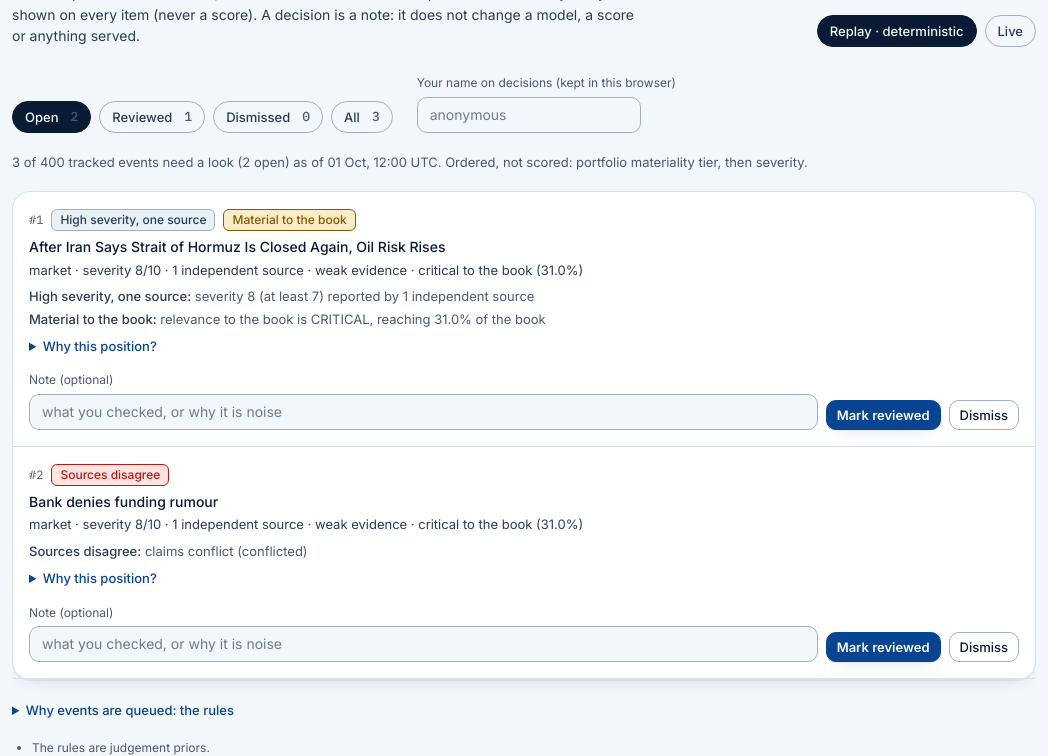
Review queue page › shows the status counts on the tabs and the rules behind the queue
The width and height of the screenshot is (1048, 756).
(page scrolled)
Check: the button "Reviewed 1" is shown, box [99, 101, 205, 133]
Step 1. Click the heading "Why events are queued: the rules" → coordinates (123, 710), box [12, 700, 234, 720]
(page scrolled)
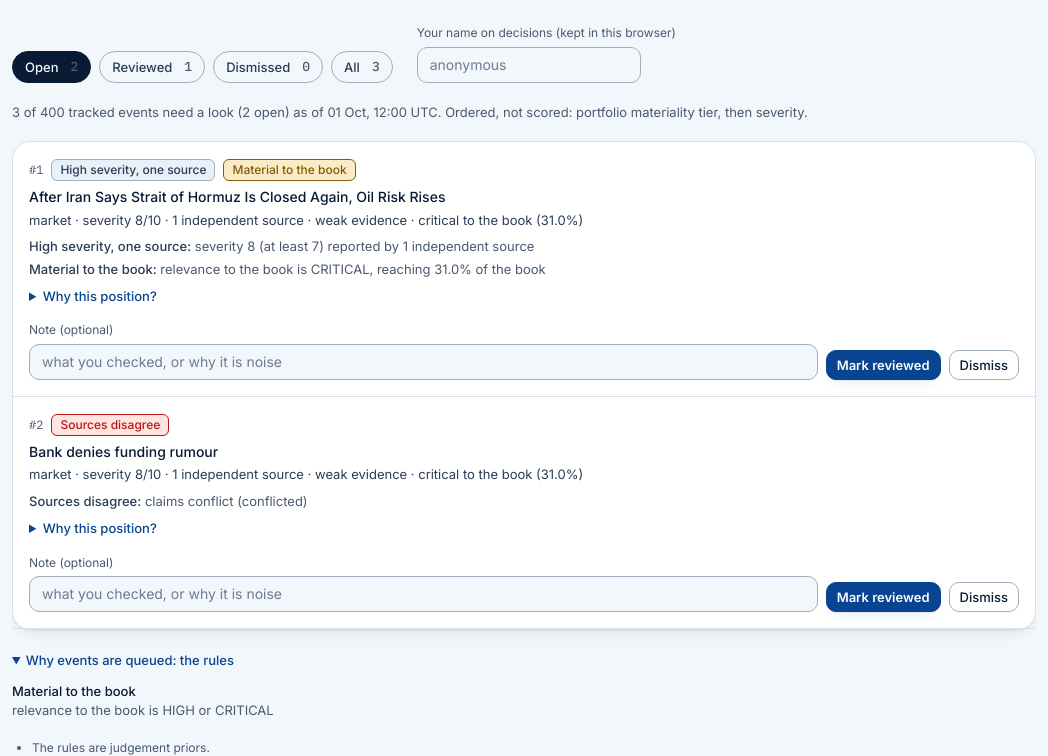
Check: the text "relevance to the book is HIGH or CRITICAL" is shown, box [12, 702, 274, 718]
